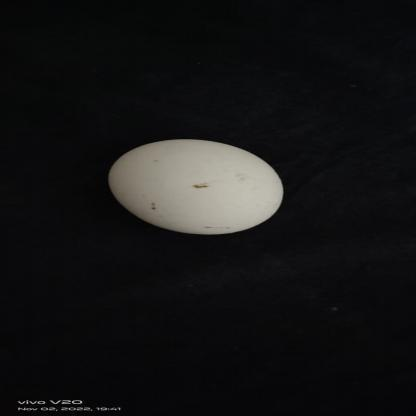egg: (104, 139, 286, 235)
